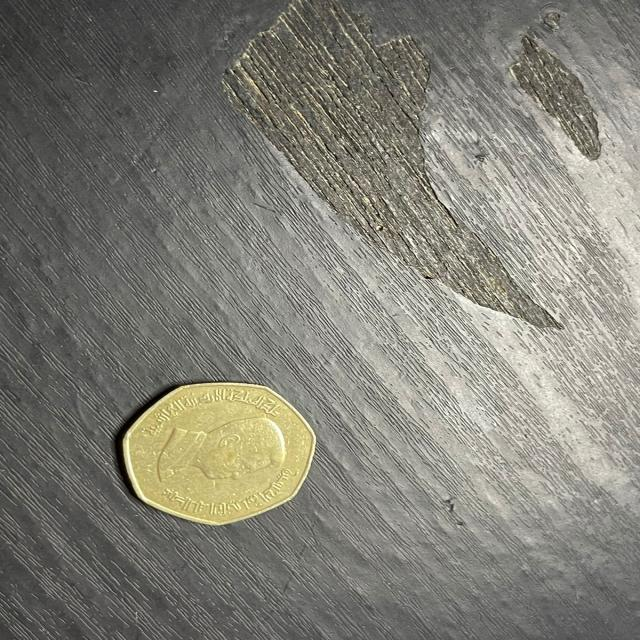25-coins: (120, 380, 318, 524)
